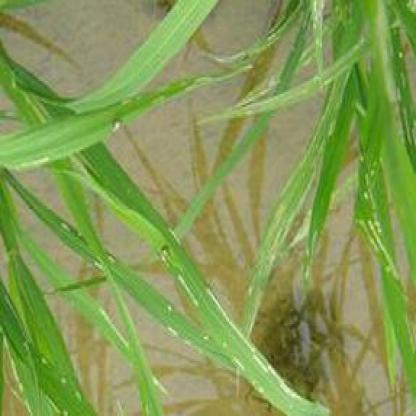rice-bug: (160, 242, 174, 262), (108, 115, 124, 132)
